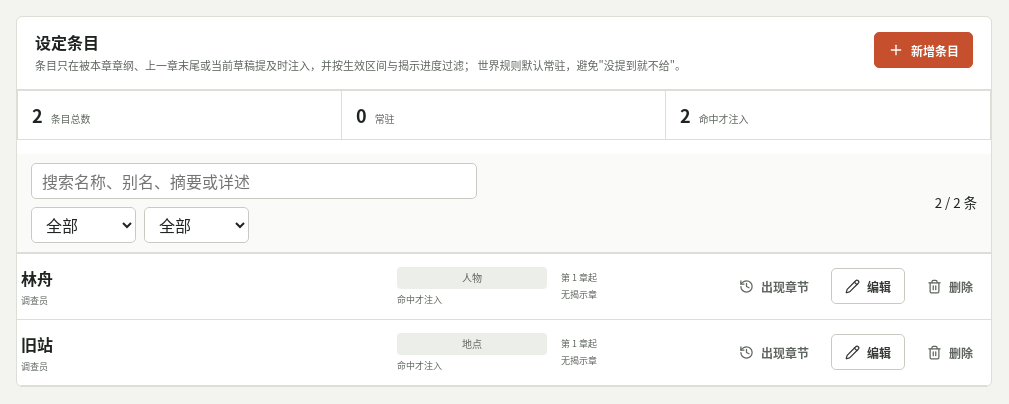
it: story entries workspace › filters by query and kind
Expected: the text "林舟" is shown, [21,266,53,290]
Expected: the text "旧站" is shown, [21,332,53,356]
Type "旧站" into the field named "搜索设定条目". click: (254, 181)
box: [31,163,477,199]
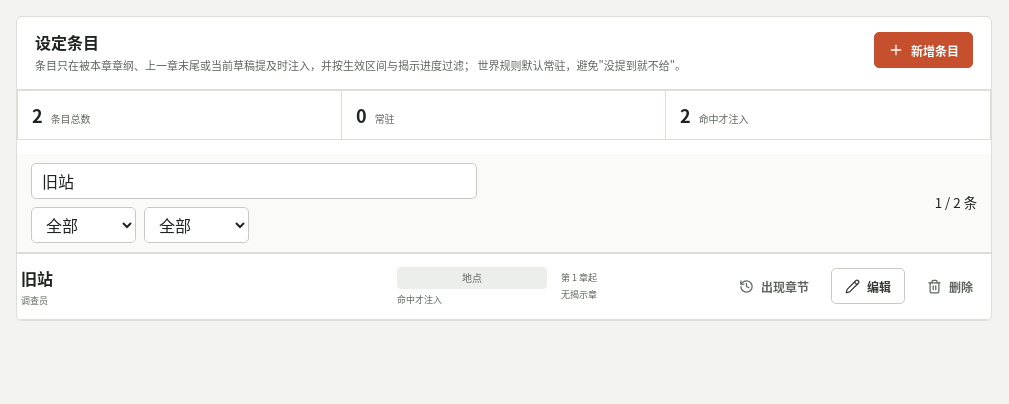
Expected: the text "旧站" is shown, [21,266,53,290]
Result: the text "林舟" is gone
Select "人物" in the dropdown named "按类型筛选". click: (84, 225)
box: [31,207,136,243]
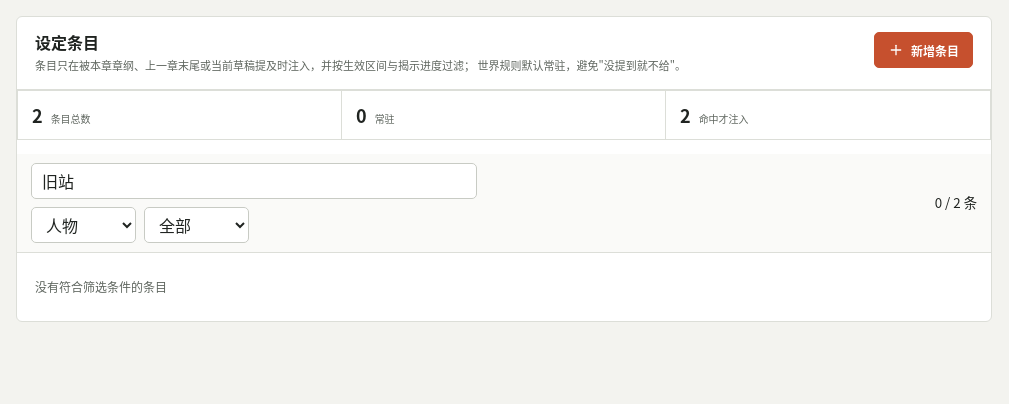
Result: the text "没有符合筛选条件的条目" is shown at [35,278,167,295]
